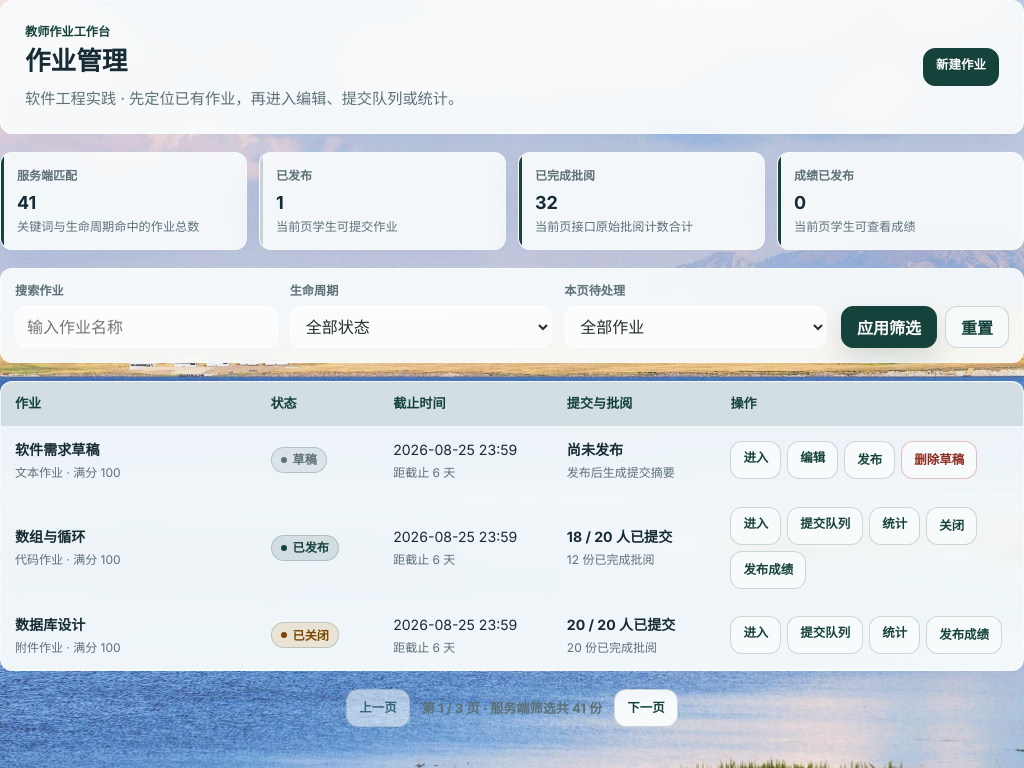
Test: HomeworkTeacherView › keeps only the draft attention filter and scopes it explicitly to the current server page
In the search field named "keyword": x=146, y=327 [15,306,278,348], type "数组"
Submit the form with test id "filter-bar", box [0,268,1023,363]
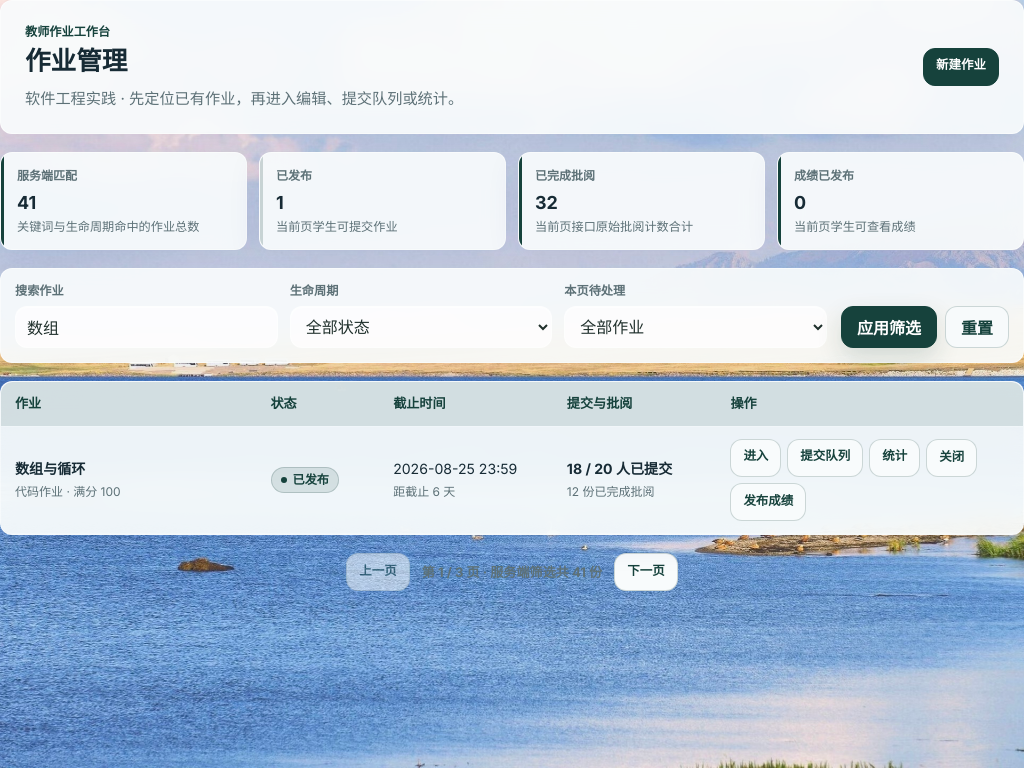
Expected: the text "数组与循环" is shown, [15,460,85,477]
Result: the text "数据库设计" is gone
Clear the search field named "keyword": x=146, y=327 [15,306,278,348]
Select "草稿" in the dropdown named "status": x=421, y=327 [290,306,552,348]
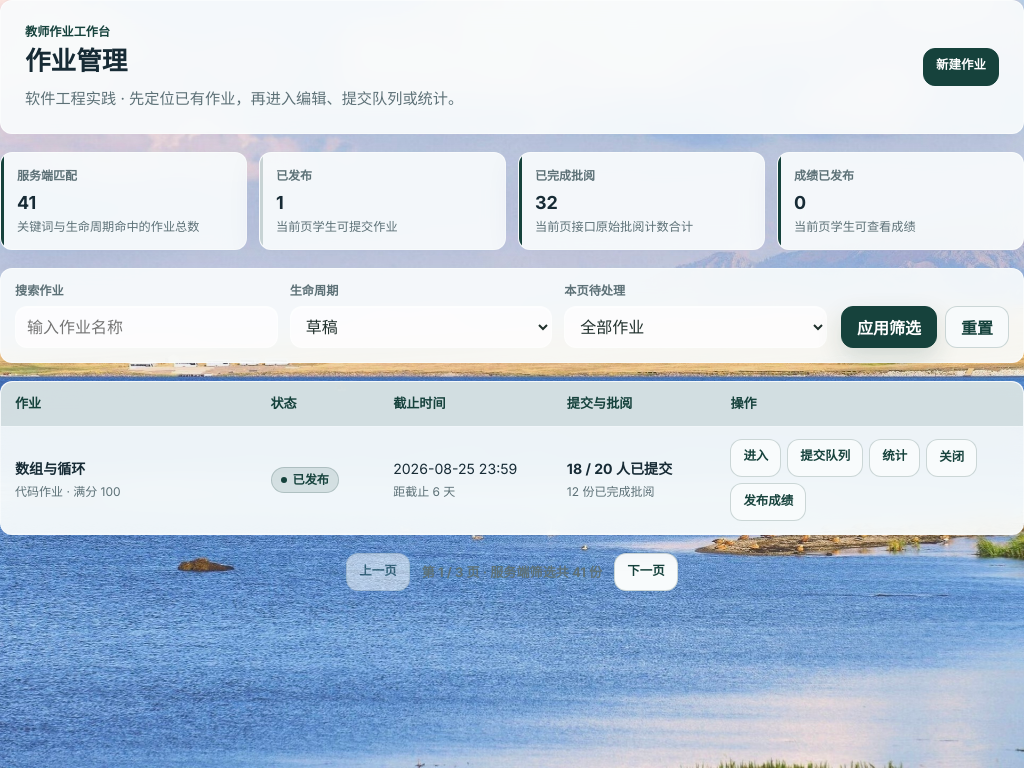
Submit the form with test id "filter-bar", box [0,268,1023,363]
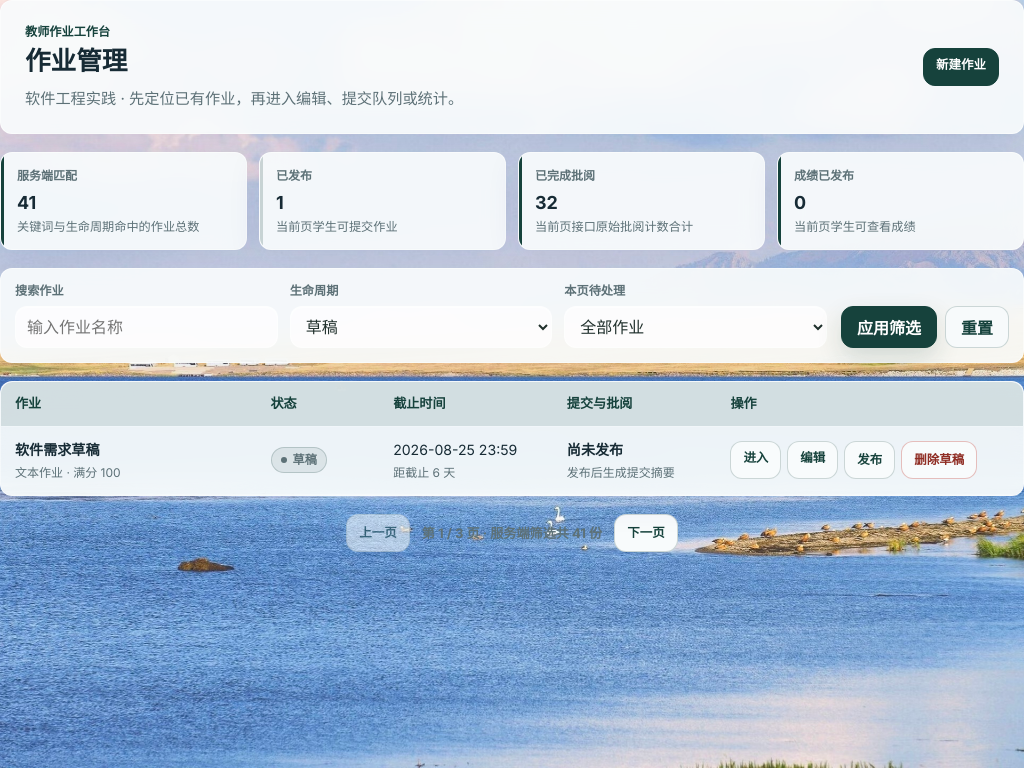
Result: the text "软件需求草稿" is shown at [15,440,100,458]
Result: the text "数组与循环" is gone
Select "全部状态" in the dropdown named "status": x=421, y=327 [290,306,552,348]
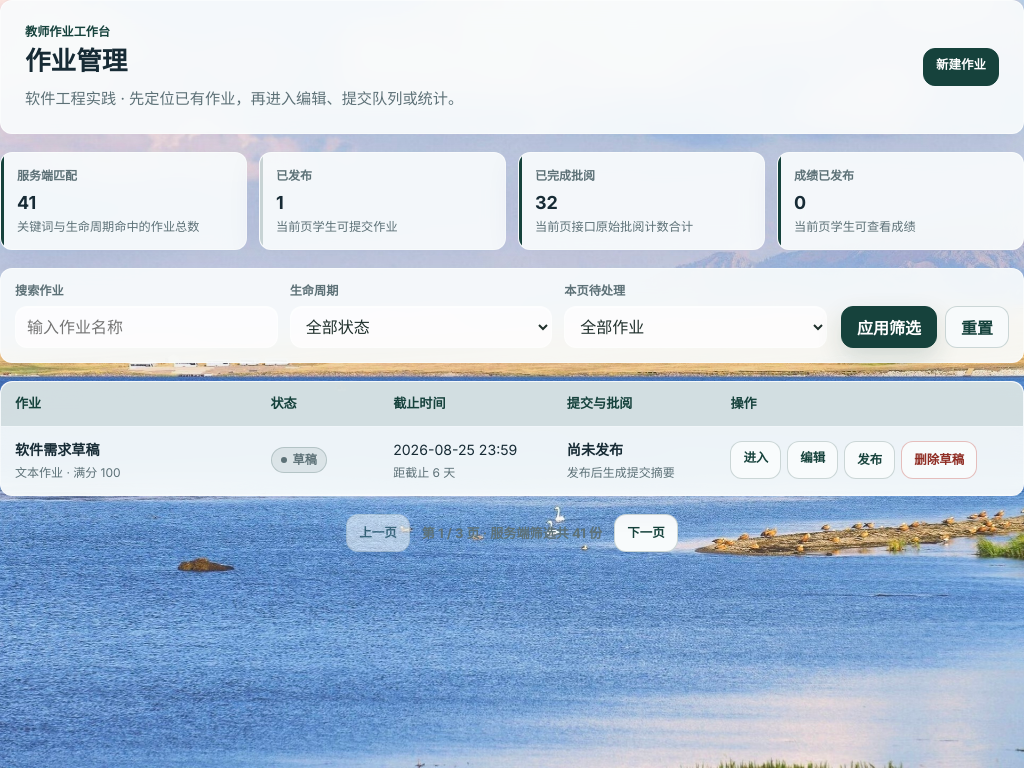
Select "本页待发布草稿" in the dropdown named "attention": x=696, y=327 [564,306,827,348]
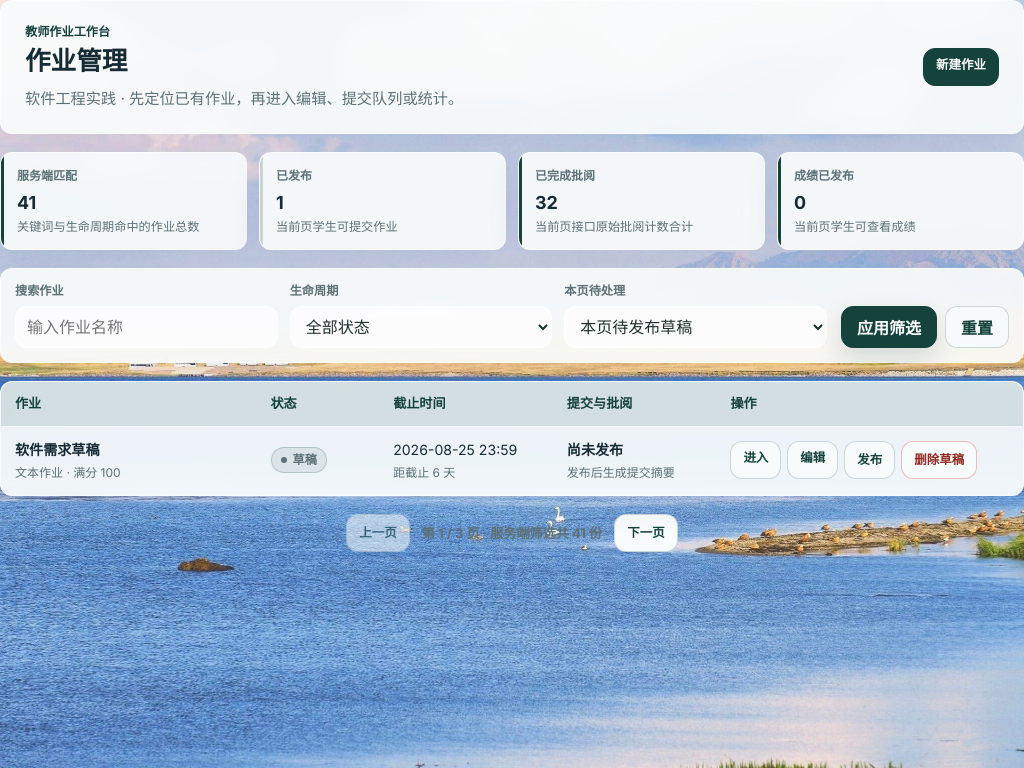
Submit the form with test id "filter-bar", box [0,268,1023,363]
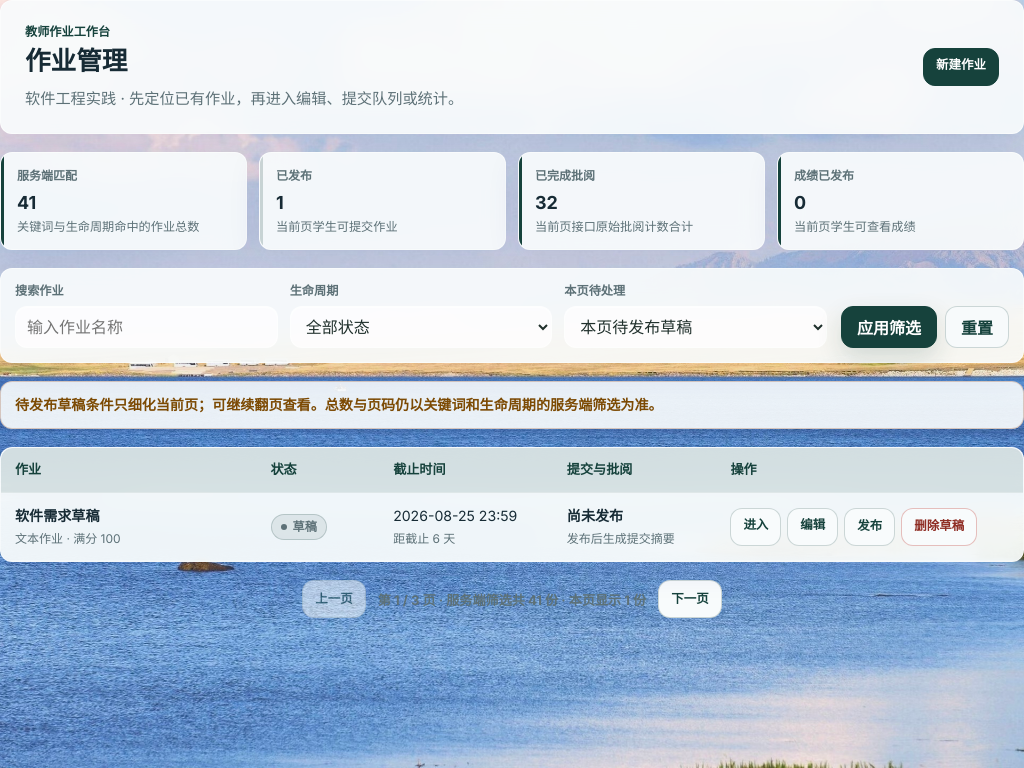
Result: the text "软件需求草稿" is shown at [15,507,100,524]
Result: the message with test id "attention-scope-note" shows "待发布草稿条件只细化当前页" at [15,396,663,413]
Result: the navigation bar named "作业分页" shows "本页显示 1 份" at [561,592,646,608]
